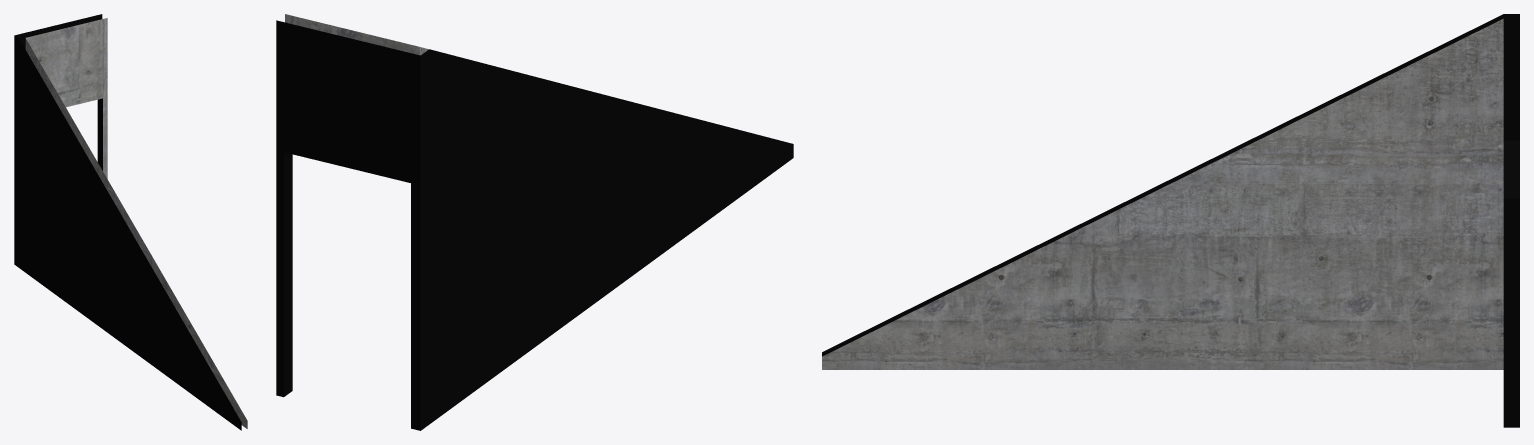
File: BUILDING_caveEntranceWall_01.FBX
The picture shows the model from 3 angles, left to right: view 1: azimuth 30°, elevation 25°; view 2: azimuth 150°, elevation 25°; view 3: azimuth 270°, elevation 25°; orthographic projection. The views are drawn at different scales.
Visible parts, largest first — view 1: BUILDING_caveEntranceWall_01; view 2: BUILDING_caveEntranceWall_01; view 3: BUILDING_caveEntranceWall_01.
Part boxes in pixels (x1,y1,x2,y2): BUILDING_caveEntranceWall_01: (14,14,247,430); BUILDING_caveEntranceWall_01: (276,14,793,430); BUILDING_caveEntranceWall_01: (822,14,1519,427).
Bounding box in the file's own units: 1.82 × 4.53 × 8.15.
2 materials, 1 textured.
